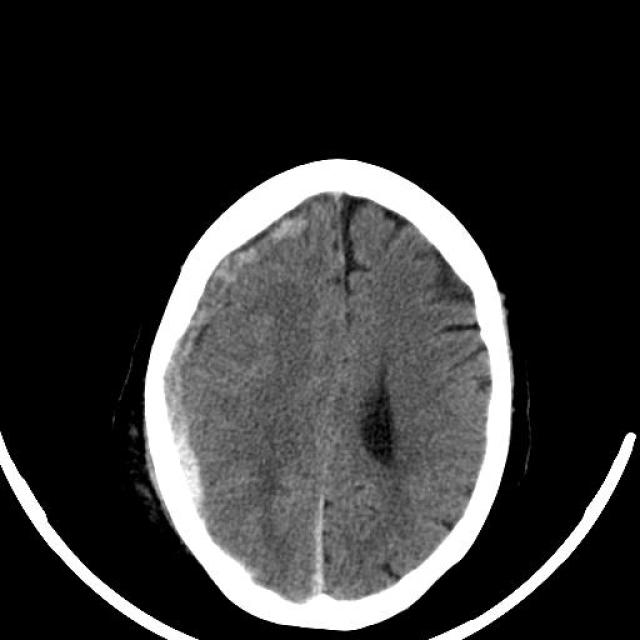Subdural: (126, 210, 292, 569), (302, 480, 350, 614)
